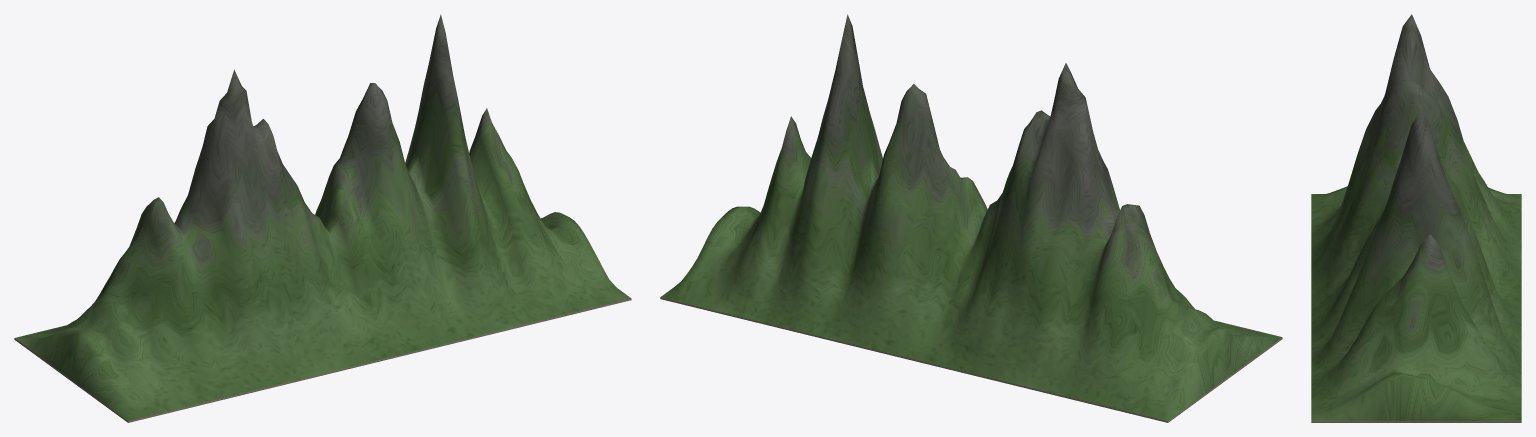
File: volcanic_island_peak.glb
3 views of the same model, side by side, from view 1: azimuth 30°, elevation 25°; view 2: azimuth 150°, elevation 25°; view 3: azimuth 270°, elevation 25° (orthographic). The views are drawn at different scales.
Visible parts, largest first — view 1: volcanic_island_peak; view 2: volcanic_island_peak; view 3: volcanic_island_peak.
Boxes of the visible parts, x1,y1,x2,y2 form: volcanic_island_peak: [14, 14, 631, 422]; volcanic_island_peak: [660, 14, 1282, 422]; volcanic_island_peak: [1311, 14, 1521, 422].
Bounding box in the file's own units: 46 × 24 × 18.
Materials: 1 (1 with a texture image).
